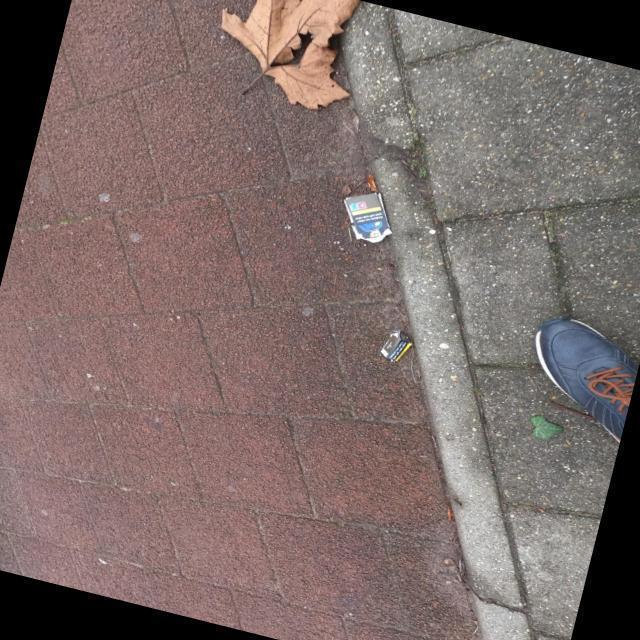Paper: (341, 191, 394, 246), (377, 328, 414, 364)
